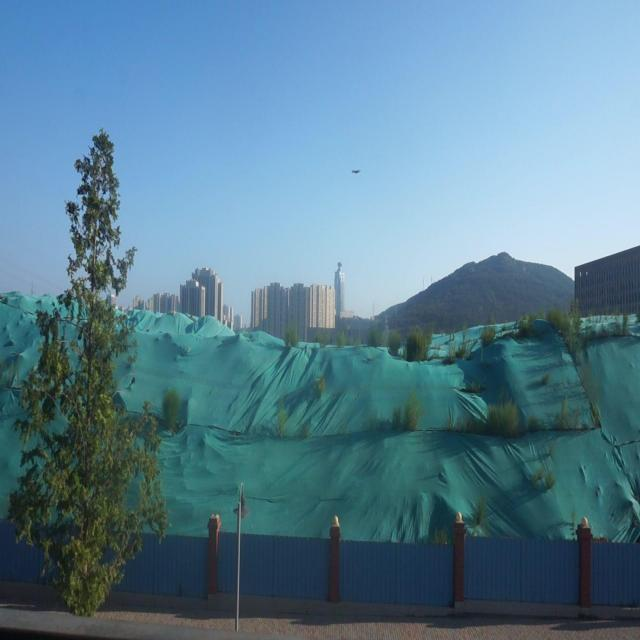UAV: (351, 170, 361, 174)
